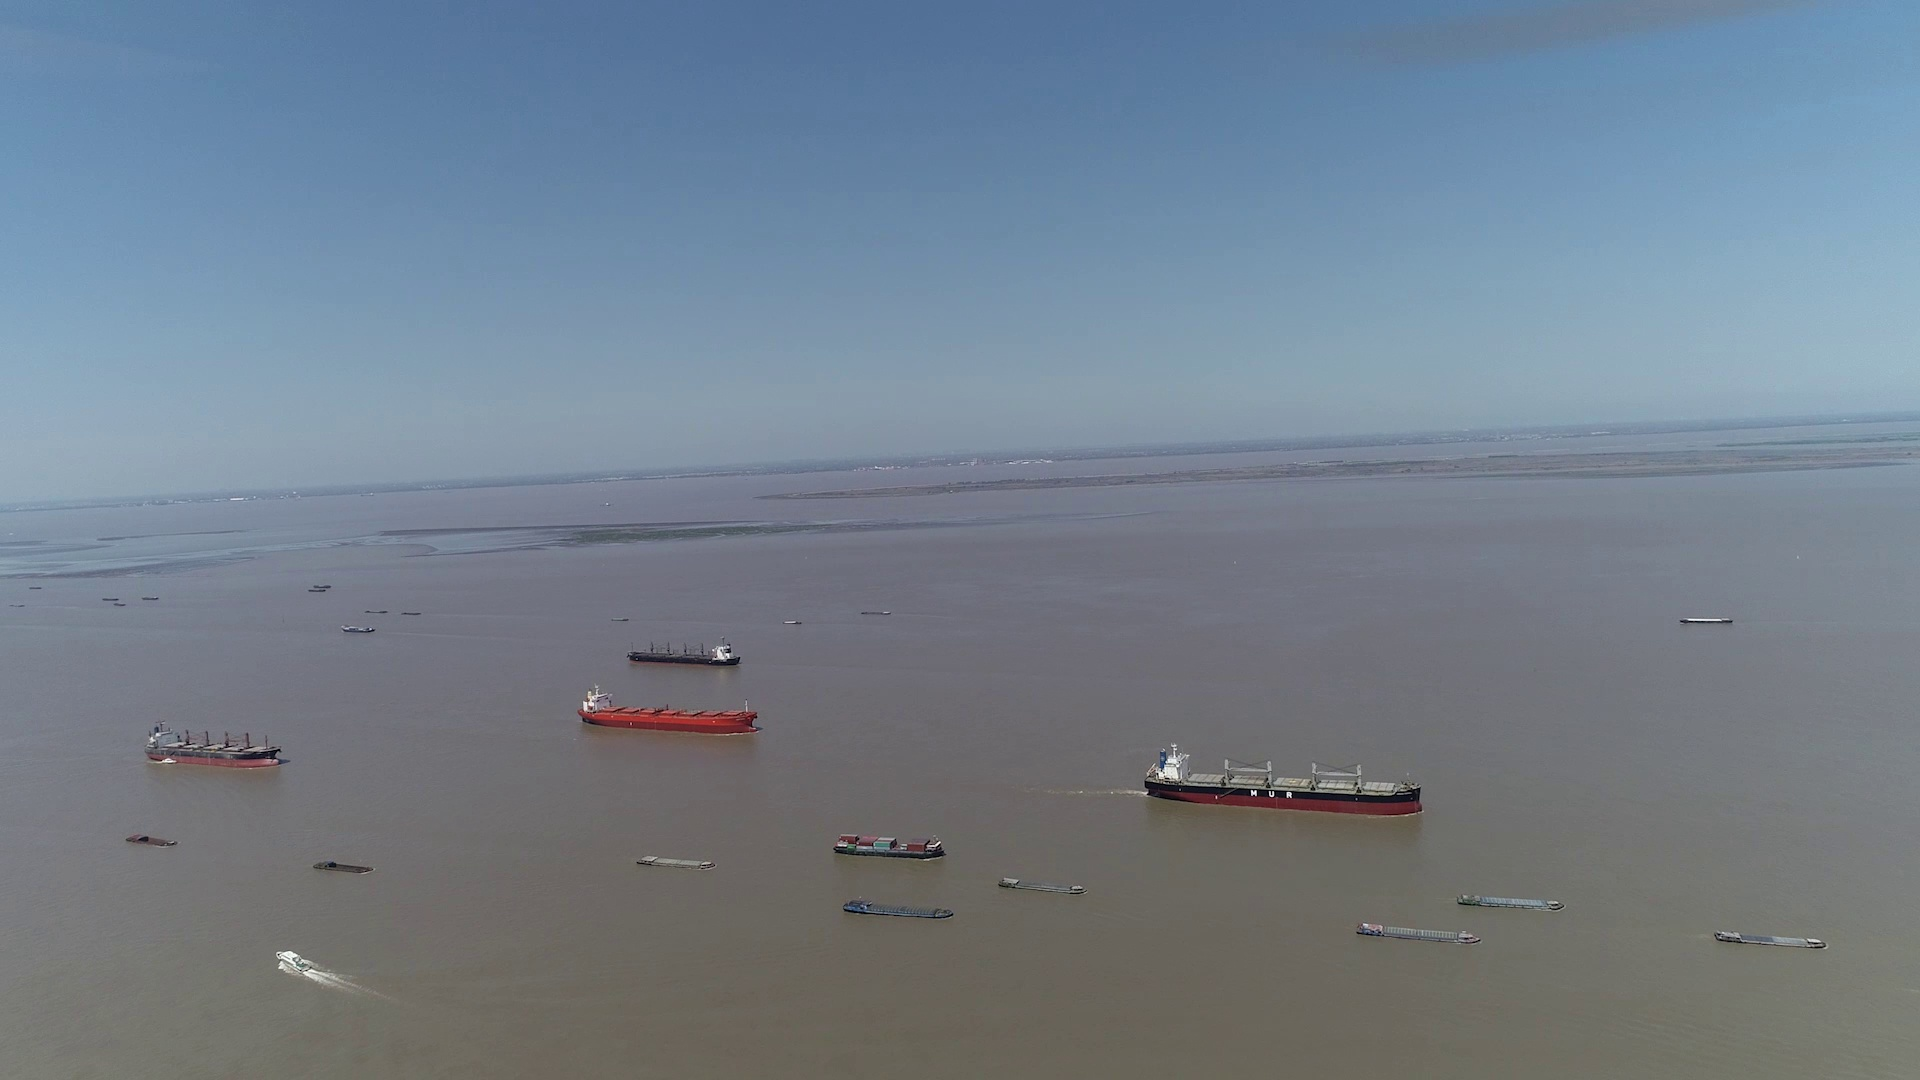ship: (1143, 742, 1422, 816), (578, 686, 754, 735), (142, 720, 282, 767), (626, 640, 738, 666), (1360, 922, 1482, 945), (832, 833, 945, 858), (1716, 927, 1826, 948), (845, 899, 953, 920), (1455, 891, 1563, 910), (998, 876, 1087, 894), (634, 853, 713, 868), (313, 861, 372, 874), (127, 833, 177, 847), (276, 949, 309, 969), (1683, 615, 1731, 624), (339, 624, 377, 633)
